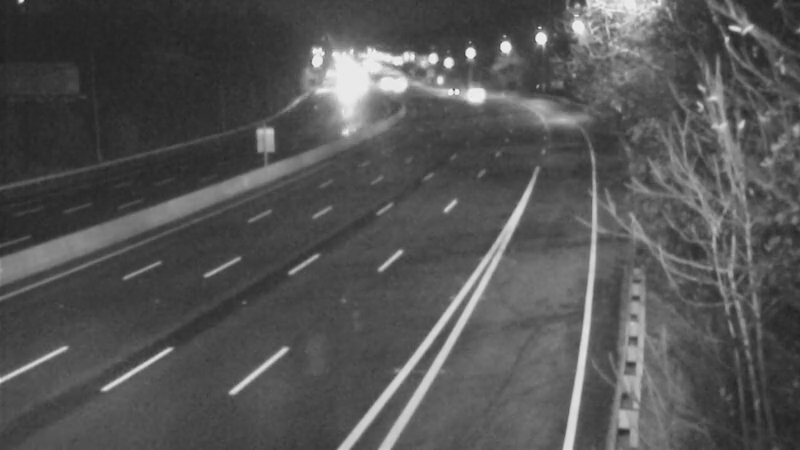vehicle: (428, 68, 478, 118), (447, 72, 497, 122)
